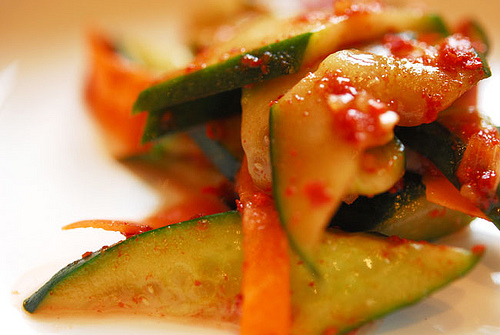cucumber: (22, 209, 483, 334), (268, 37, 493, 278), (130, 5, 425, 118)
